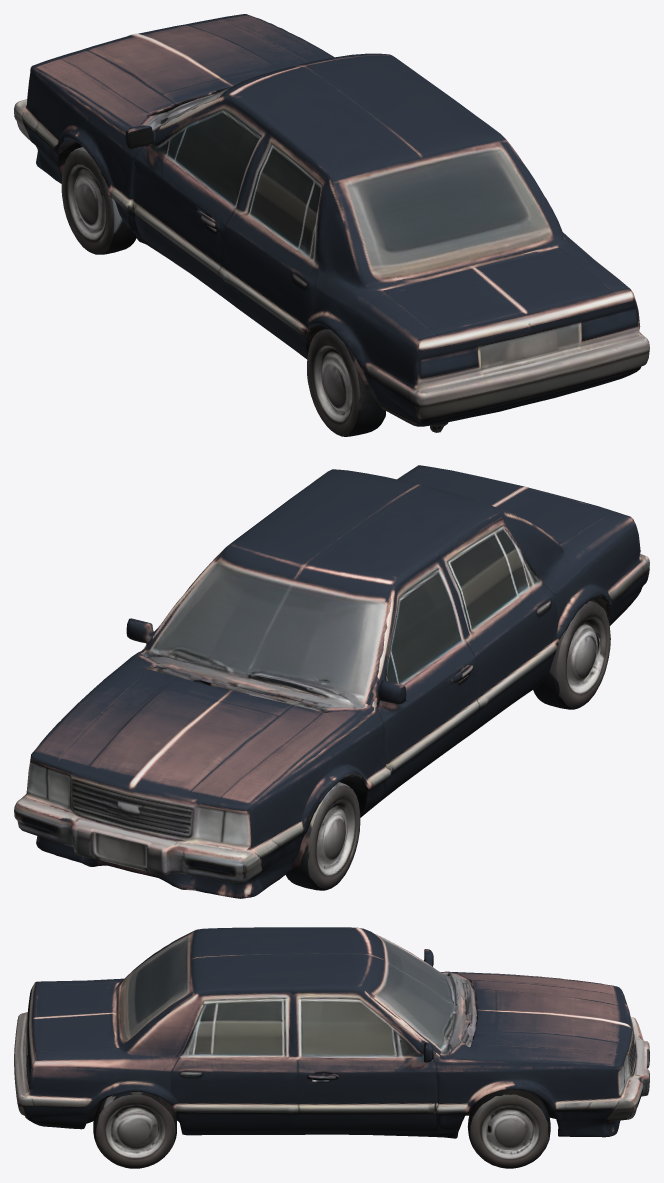
The model's file is SM_Car_Daniel.fbx.
The picture shows the model from 3 angles, top to bottom: view 1: azimuth 30°, elevation 25°; view 2: azimuth 150°, elevation 25°; view 3: azimuth 270°, elevation 25°; orthographic projection. The views are drawn at different scales.
Visible parts, largest first — view 1: Car_Daniel; view 2: Car_Daniel; view 3: Car_Daniel.
Boxes of the visible parts, x1=… form: Car_Daniel: x1=14, y1=14, x2=649, y2=436; Car_Daniel: x1=14, y1=465, x2=649, y2=898; Car_Daniel: x1=14, y1=927, x2=649, y2=1168.
Size of the model in its own units: 1.81 by 1.41 by 4.75.
Materials: 1 (1 with a texture image).
